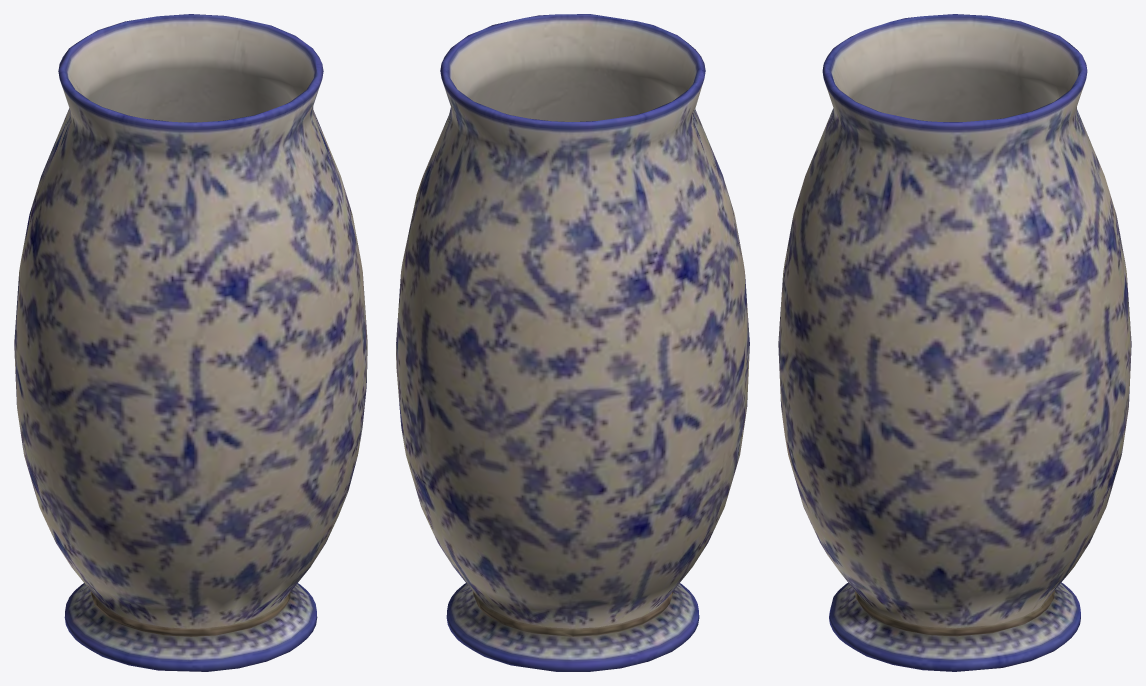
The model's file is antique_vase.glb.
3 renders of one model, left to right at view 1: azimuth 30°, elevation 25°; view 2: azimuth 150°, elevation 25°; view 3: azimuth 270°, elevation 25°, orthographic.
Visible parts, largest first — view 1: antique_ceramic_vase_01; view 2: antique_ceramic_vase_01; view 3: antique_ceramic_vase_01.
Boxes of the visible parts, x1,y1,x2,y2 form: antique_ceramic_vase_01: (14, 14, 367, 671); antique_ceramic_vase_01: (396, 14, 749, 671); antique_ceramic_vase_01: (778, 14, 1131, 671).
Bounding box in the file's own units: 0.2549 × 0.4396 × 0.255.
1 material, 1 textured.
